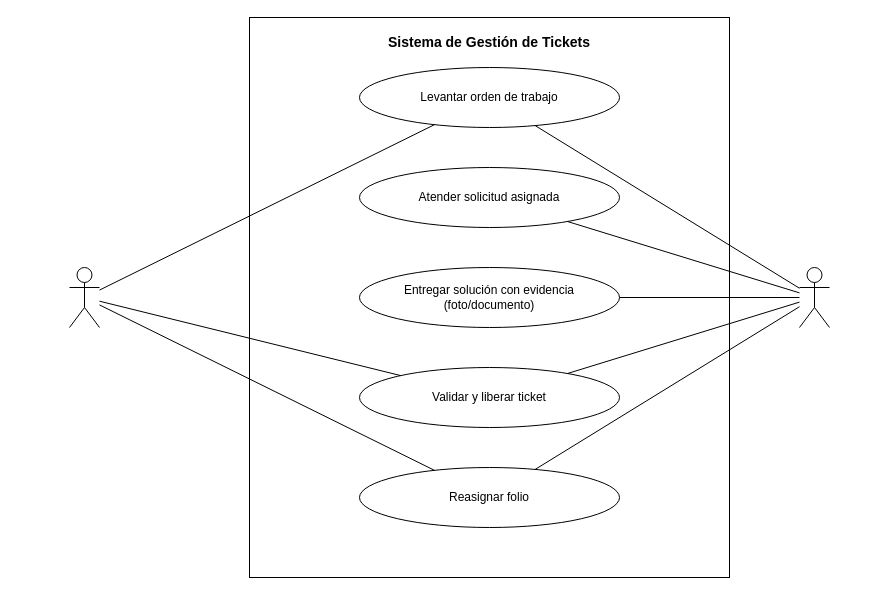
This 880x595 diagram has some shape labels left out. Here are the shapes that lost their labels. From the top down, the centre of each, then its label:
the point at 84,297: Administrador / Dirección
the point at 814,297: Usuario Operativo
